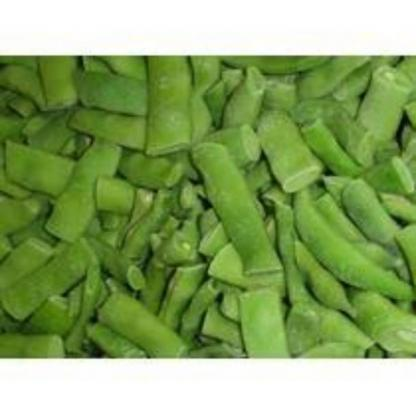beans: (2, 48, 415, 365)
